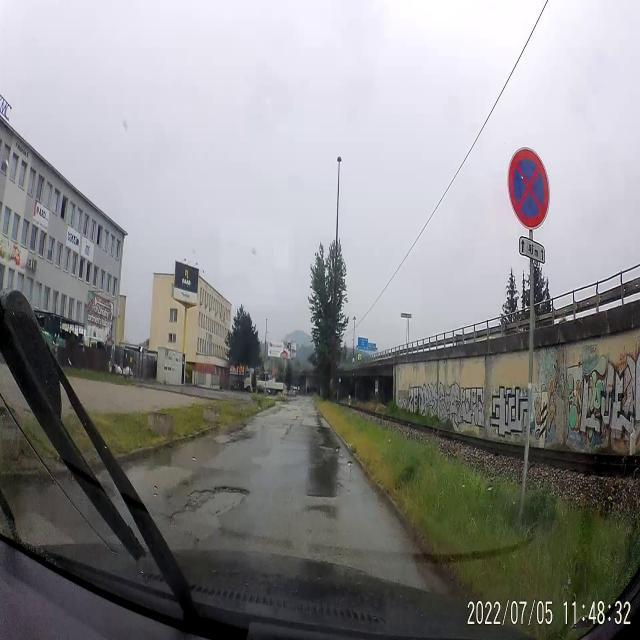Pothole: (172, 471, 247, 541), (303, 482, 342, 514), (216, 428, 256, 449)
